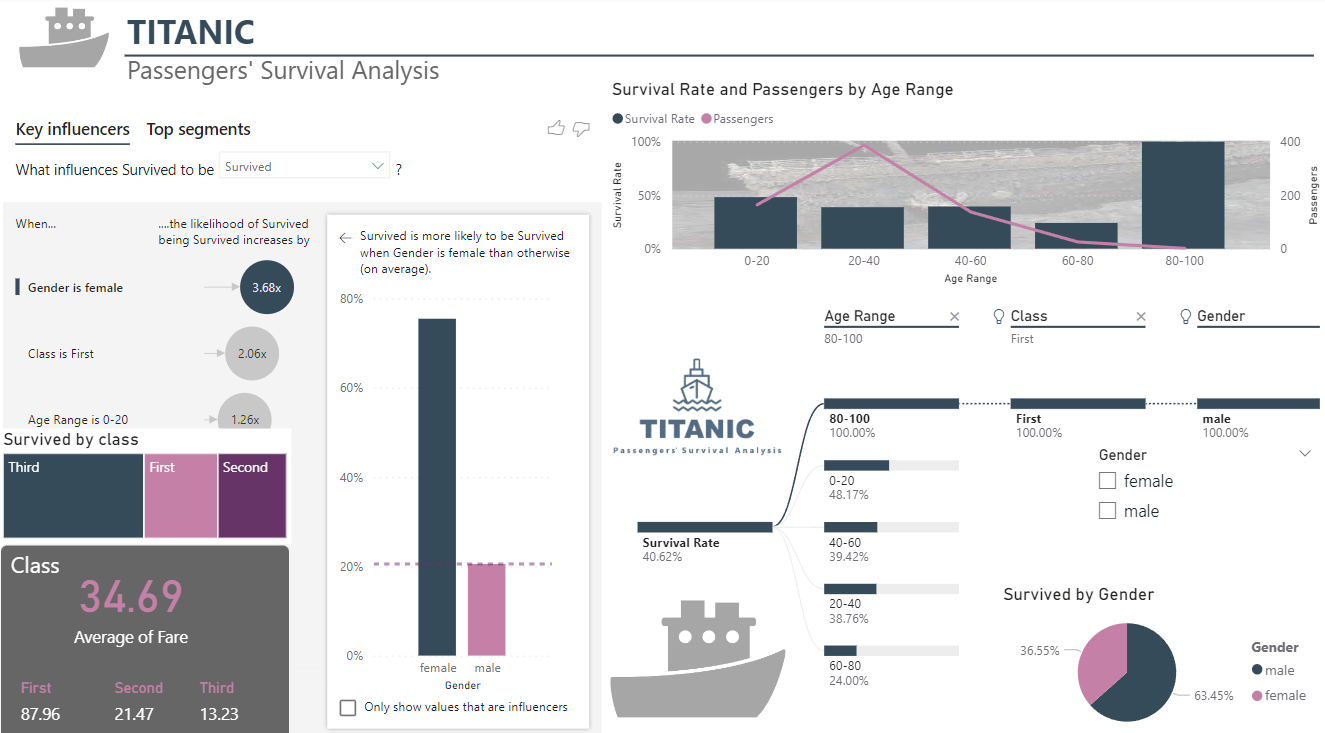

What the dashboard file says about the page in this screenshot:
{"tool":"powerbi","page":{"name":"Titanic","canvas":[1280,720],"ordinal":0},"visuals":[{"type":"keyDriversVisual","fields":{"Target":["titanic.Survived"],"ExplainBy":["titanic.Pclass","titanic.Gender","titanic.Age Range"]},"box":[0,103.7,587.3,616.3],"z":0},{"type":"textbox","box":[119.4,7.2,507.7,96.5],"z":1000},{"type":"image","box":[16,0,96,80],"z":2000},{"type":"basicShape","box":[112.2,48.2,1167.4,16.9],"z":3000},{"type":"decompositionTreeVisual","fields":{"Analyze":["titanic.Survival Rate"],"ExplainBy":["titanic.Age Range","titanic.Pclass","titanic.Gender"]},"box":[586.8,283.6,693.1,436.4],"z":4000},{"type":"lineStackedColumnComboChart","fields":{"Y":["titanic.Survival Rate"],"Y2":["titanic.Passengers"],"Category":["titanic.Age Range"]},"box":[586.8,79.5,693.1,204.1],"z":5000},{"type":"slicer","fields":{"Values":["titanic.Gender"]},"box":[1048.8,429.1,231,89.2],"z":6000},{"type":"treemap","fields":{"Group":["titanic.Pclass"],"Values":["CountNonNull(titanic.Survived)"]},"box":[0,416.8,283.6,111.2],"z":7000},{"type":"pieChart","fields":{"Category":["titanic.Gender"],"Y":["CountNonNull(titanic.Survived)"]},"box":[964.5,567.2,315.4,152.8],"z":8000},{"type":"image","box":[586.1,558.4,178.5,161.6],"z":9000},{"type":"basicShape","box":[0,528.1,283.6,191.9],"z":10000},{"type":"card","fields":{"Values":["Avg(titanic.Fare)"]},"box":[20.3,537.4,216,95.8],"z":11000},{"type":"multiRowCard","fields":{"Values":["titanic.Class","Avg(titanic.Fare)"]},"box":[16.5,653.3,73.4,55.3],"z":12000},{"type":"multiRowCard","fields":{"Values":["titanic.Class","Avg(titanic.Fare)"]},"box":[107.4,653.3,64.9,55.3],"z":13000},{"type":"multiRowCard","fields":{"Values":["titanic.Class","Avg(titanic.Fare)"]},"box":[189.9,653.3,62.8,55.3],"z":14000},{"type":"textbox","box":[7.3,528.1,112.5,47.7],"z":15000},{"type":"image","box":[586.1,341.3,177.3,115.8],"z":16000}]}

Visuals, with their boxes in screenshot pixels (x1, y1, x2, y2), scaled from the page's 1280x720 canvas onto the 1325x733 screenshot:
keyDriversVisual - titanic.Survived x titanic.Pclass: {"left": 0, "top": 106, "right": 608, "bottom": 732}
textbox: {"left": 124, "top": 7, "right": 649, "bottom": 106}
image: {"left": 17, "top": 0, "right": 116, "bottom": 81}
basicShape: {"left": 116, "top": 49, "right": 1324, "bottom": 66}
decompositionTreeVisual - titanic.Survival Rate x titanic.Age Range: {"left": 607, "top": 289, "right": 1324, "bottom": 732}
lineStackedColumnComboChart - titanic.Survival Rate x titanic.Passengers: {"left": 607, "top": 81, "right": 1324, "bottom": 289}
slicer - titanic.Gender: {"left": 1086, "top": 437, "right": 1324, "bottom": 528}
treemap - titanic.Pclass x CountNonNull(titanic.Survived): {"left": 0, "top": 424, "right": 294, "bottom": 538}
pieChart - titanic.Gender x CountNonNull(titanic.Survived): {"left": 998, "top": 577, "right": 1324, "bottom": 732}
image: {"left": 607, "top": 568, "right": 791, "bottom": 732}
basicShape: {"left": 0, "top": 538, "right": 294, "bottom": 732}
card - Avg(titanic.Fare): {"left": 21, "top": 547, "right": 245, "bottom": 645}
multiRowCard - titanic.Class x Avg(titanic.Fare): {"left": 17, "top": 665, "right": 93, "bottom": 721}
multiRowCard - titanic.Class x Avg(titanic.Fare): {"left": 111, "top": 665, "right": 178, "bottom": 721}
multiRowCard - titanic.Class x Avg(titanic.Fare): {"left": 197, "top": 665, "right": 262, "bottom": 721}
textbox: {"left": 8, "top": 538, "right": 124, "bottom": 586}
image: {"left": 607, "top": 347, "right": 790, "bottom": 465}
